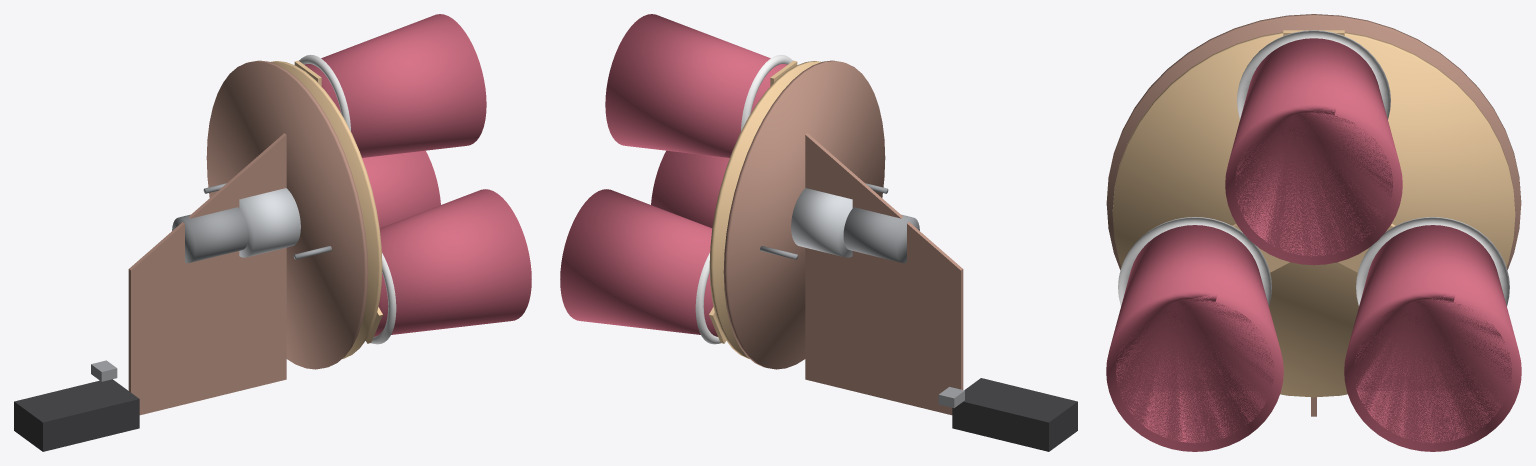
Rendered from turntable.fbx.
The picture shows the model from 3 angles, left to right: view 1: azimuth 30°, elevation 25°; view 2: azimuth 150°, elevation 25°; view 3: azimuth 270°, elevation 25°; orthographic projection. The views are drawn at different scales.
Parts seen in each view (by area): view 1: TT_BaseB2, TT_BaseD1, TT_ROTOR_Cup3, TT_ROTOR_Cup1, TT_BatteryBox, TT_ROTOR_DiscA2, TT_ROTOR_Cup2, TT_MotorGear, TT_MotorBody, TT_ROTOR_Cradle3, TT_ROTOR_Cradle1; view 2: TT_BaseB2, TT_BaseD1, TT_ROTOR_Cup2, TT_ROTOR_Cup1, TT_BatteryBox, TT_ROTOR_DiscA2, TT_ROTOR_Cup3, TT_MotorGear, TT_MotorBody, TT_ROTOR_Cradle2, TT_ROTOR_Cradle1; view 3: TT_ROTOR_DiscA2, TT_ROTOR_Cup2, TT_ROTOR_Cup3, TT_ROTOR_Cup1, TT_BaseD1, TT_ROTOR_Cradle1, TT_ROTOR_Cradle2, TT_ROTOR_Cradle3.
Boxes of the visible parts, left/top/right/bottom form: TT_BaseB2: left=128, top=133, right=286, bottom=415; TT_BaseD1: left=206, top=60, right=368, bottom=369; TT_ROTOR_Cup3: left=374, top=189, right=531, bottom=336; TT_ROTOR_Cup1: left=304, top=14, right=486, bottom=157; TT_BatteryBox: left=14, top=379, right=139, bottom=451; TT_ROTOR_DiscA2: left=270, top=61, right=382, bottom=358; TT_ROTOR_Cup2: left=362, top=150, right=440, bottom=227; TT_MotorGear: left=239, top=188, right=300, bottom=257; TT_MotorBody: left=172, top=207, right=248, bottom=263; TT_ROTOR_Cradle3: left=371, top=253, right=396, bottom=344; TT_ROTOR_Cradle1: left=299, top=54, right=350, bottom=131; TT_BaseB2: left=805, top=133, right=963, bottom=415; TT_BaseD1: left=723, top=60, right=885, bottom=369; TT_ROTOR_Cup2: left=560, top=189, right=717, bottom=336; TT_ROTOR_Cup1: left=605, top=14, right=787, bottom=157; TT_BatteryBox: left=952, top=378, right=1077, bottom=451; TT_ROTOR_DiscA2: left=709, top=61, right=821, bottom=358; TT_ROTOR_Cup3: left=651, top=150, right=729, bottom=227; TT_MotorGear: left=791, top=188, right=852, bottom=257; TT_MotorBody: left=843, top=207, right=919, bottom=263; TT_ROTOR_Cradle2: left=695, top=253, right=720, bottom=344; TT_ROTOR_Cradle1: left=741, top=54, right=792, bottom=131; TT_ROTOR_DiscA2: left=1112, top=30, right=1515, bottom=397; TT_ROTOR_Cup2: left=1344, top=225, right=1521, bottom=451; TT_ROTOR_Cup3: left=1106, top=225, right=1283, bottom=451; TT_ROTOR_Cup1: left=1225, top=38, right=1402, bottom=265; TT_BaseD1: left=1106, top=14, right=1521, bottom=269; TT_ROTOR_Cradle1: left=1237, top=30, right=1390, bottom=119; TT_ROTOR_Cradle2: left=1356, top=217, right=1509, bottom=305; TT_ROTOR_Cradle3: left=1118, top=217, right=1271, bottom=305.
Bounding box in the file's own units: 27.2 × 19.55 × 17.55.
